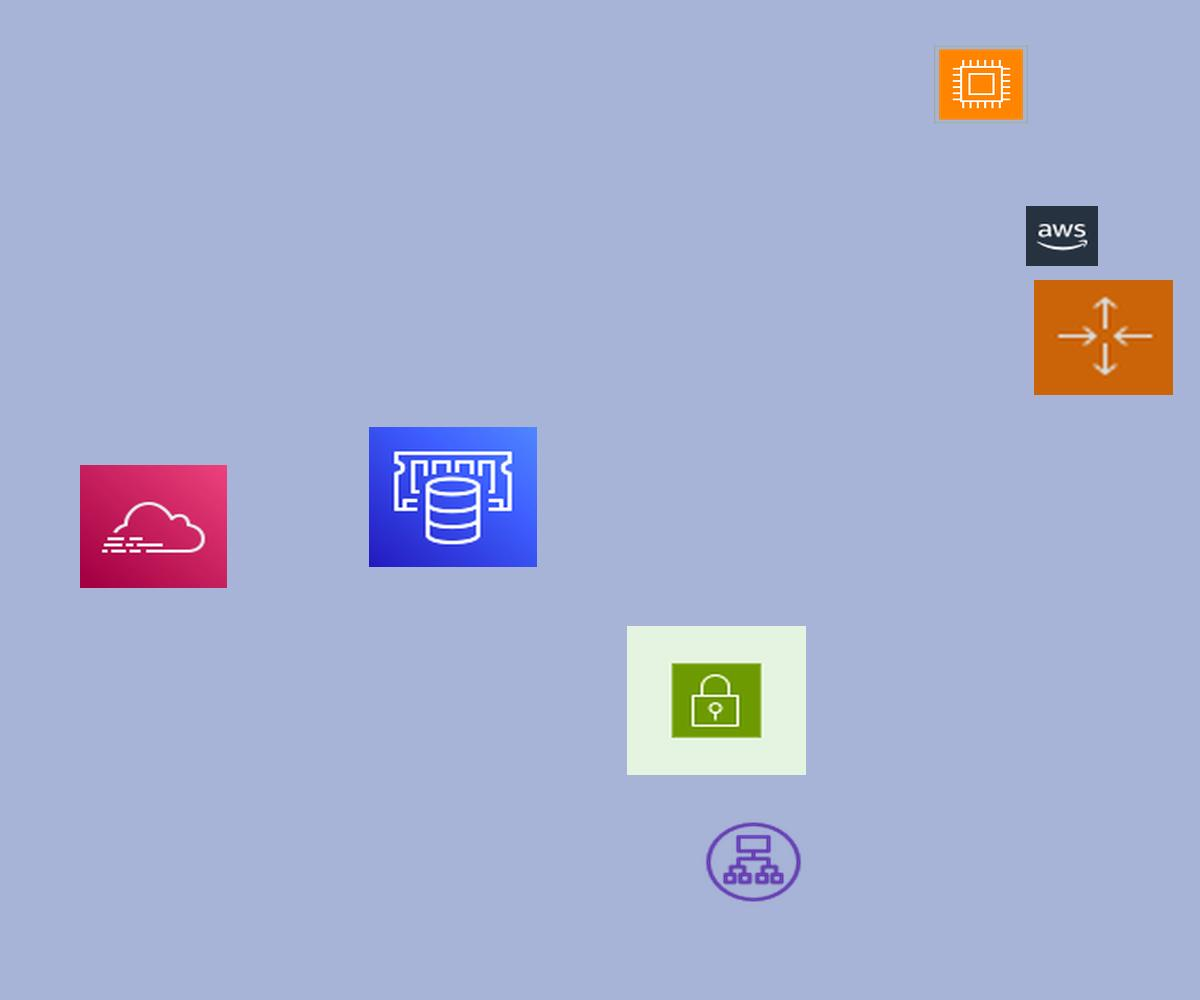AWS-Category_Compute: (934, 45, 1028, 124)
AWS-Cloud-logo: (1026, 206, 1098, 266)
AWS-CloudTrail: (80, 465, 227, 588)
AWS-ElastiCache: (369, 427, 537, 567)
AWS-Public-subnet: (627, 626, 806, 775)
AWS-Res_Elastic-Load-Balancing_Application-Load-Balancer: (702, 819, 805, 905)
AWS-Scaling-group: (1034, 280, 1173, 395)
